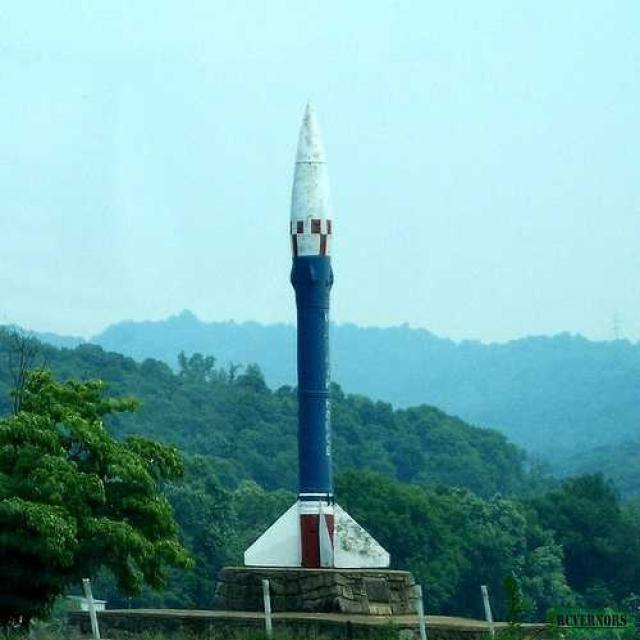missile: (224, 87, 395, 576)
